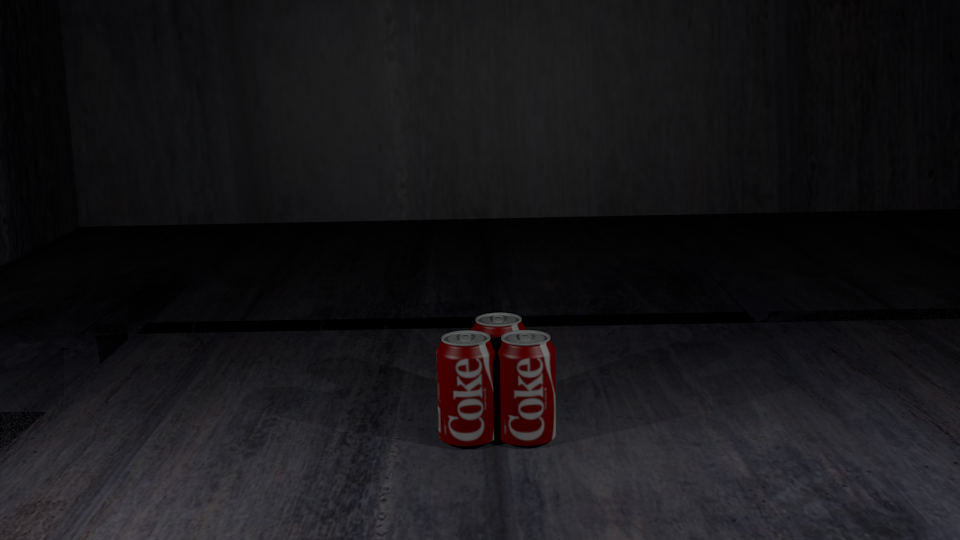cola_can: (436, 331, 495, 443), (496, 330, 555, 442), (471, 313, 526, 419)
